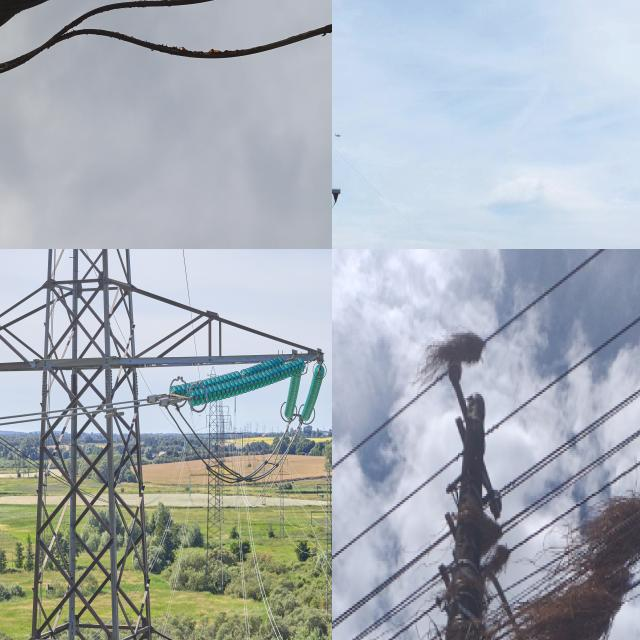杆塔: (0, 249, 317, 640)
植被遮挡: (418, 325, 490, 390)
正常绝缘子: (167, 353, 290, 405), (194, 356, 305, 407), (299, 364, 327, 424), (283, 358, 306, 420)
电缆破损: (0, 0, 332, 131)
